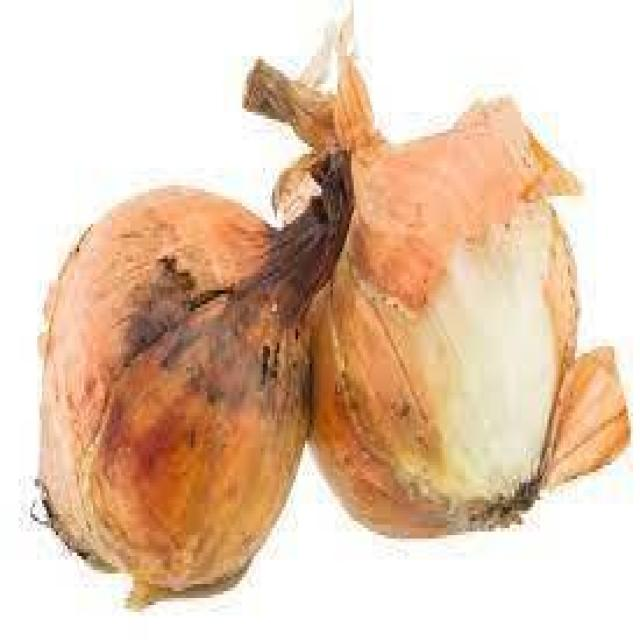Onion: (244, 16, 633, 540), (30, 147, 354, 612)
